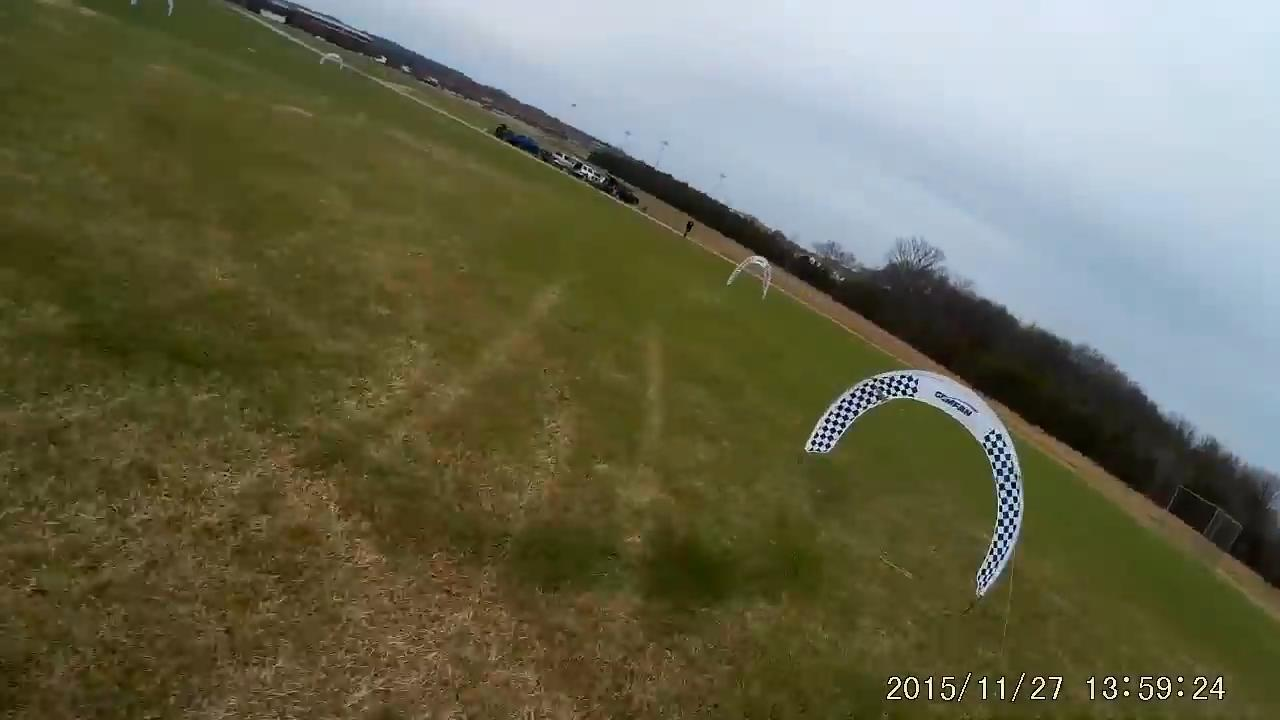gate: (798, 367, 1024, 599), (727, 254, 772, 301)
